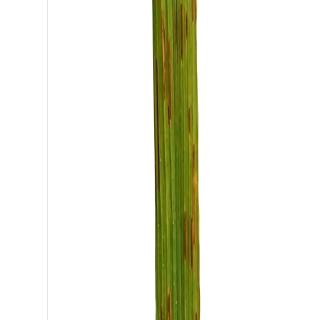Bercak-Cokelat-Sempit: (185, 103, 200, 265), (162, 5, 175, 123), (177, 0, 197, 61), (160, 289, 175, 320), (186, 311, 199, 320)
